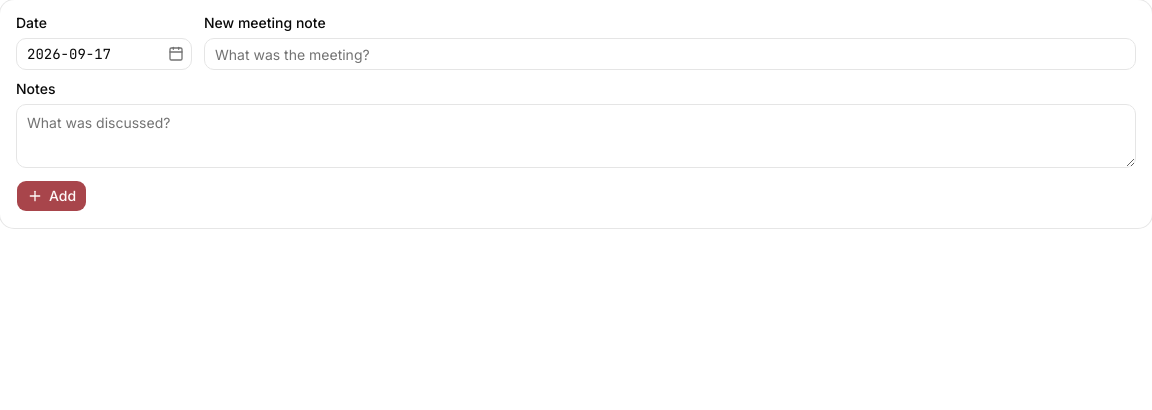
Scenario: MeetingNoteCapture › expands to show type and reflection once the user starts typing a title
The image size is (1152, 410).
Type "A" into the field labelled "New meeting note" at {"x": 670, "y": 54}, box [204, 38, 1136, 70]
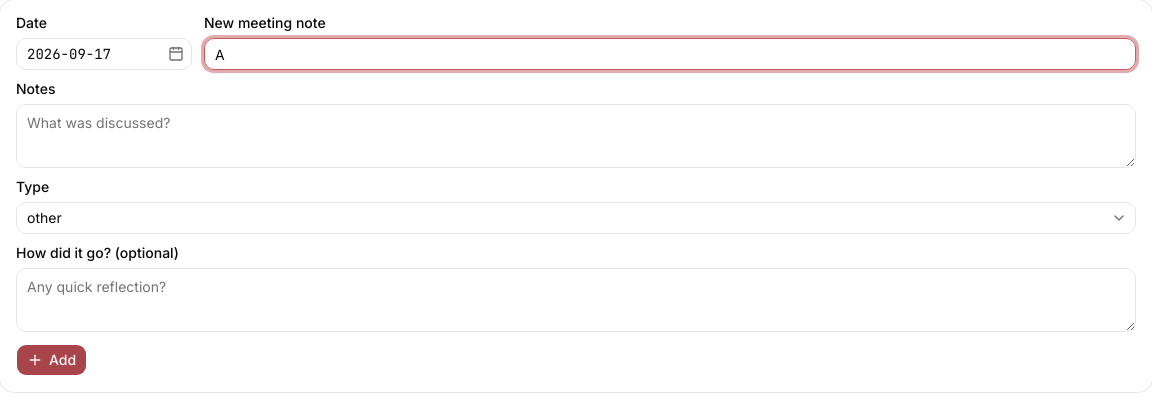
Now the text "Type" is shown, box [16, 178, 49, 195]
Now the text box labelled "How did it go? (optional)" is shown, box [16, 268, 1136, 332]
